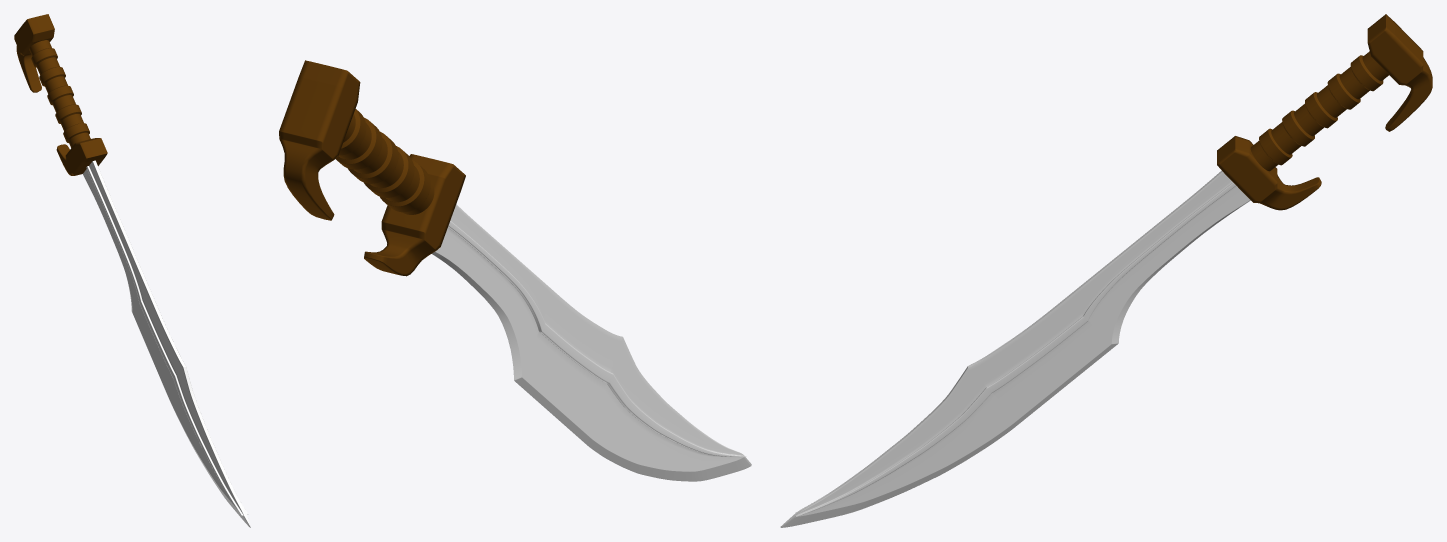
File: sword.obj
3 renders of one model, left to right at view 1: azimuth 30°, elevation 25°; view 2: azimuth 150°, elevation 25°; view 3: azimuth 270°, elevation 25°, orthographic. The views are drawn at different scales.
Parts seen in each view (by area): view 1: sword; view 2: sword; view 3: sword.
Boxes of the visible parts, x1,y1,x2,y2 form: sword: [14, 14, 250, 527]; sword: [279, 60, 751, 481]; sword: [780, 14, 1432, 527].
Bounding box in the file's own units: 0.1038 × 1.59 × 1.86.
4 materials, 4 textured.
